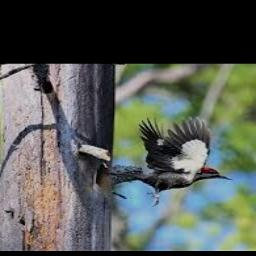Woodpecker: (105, 116, 234, 206)
